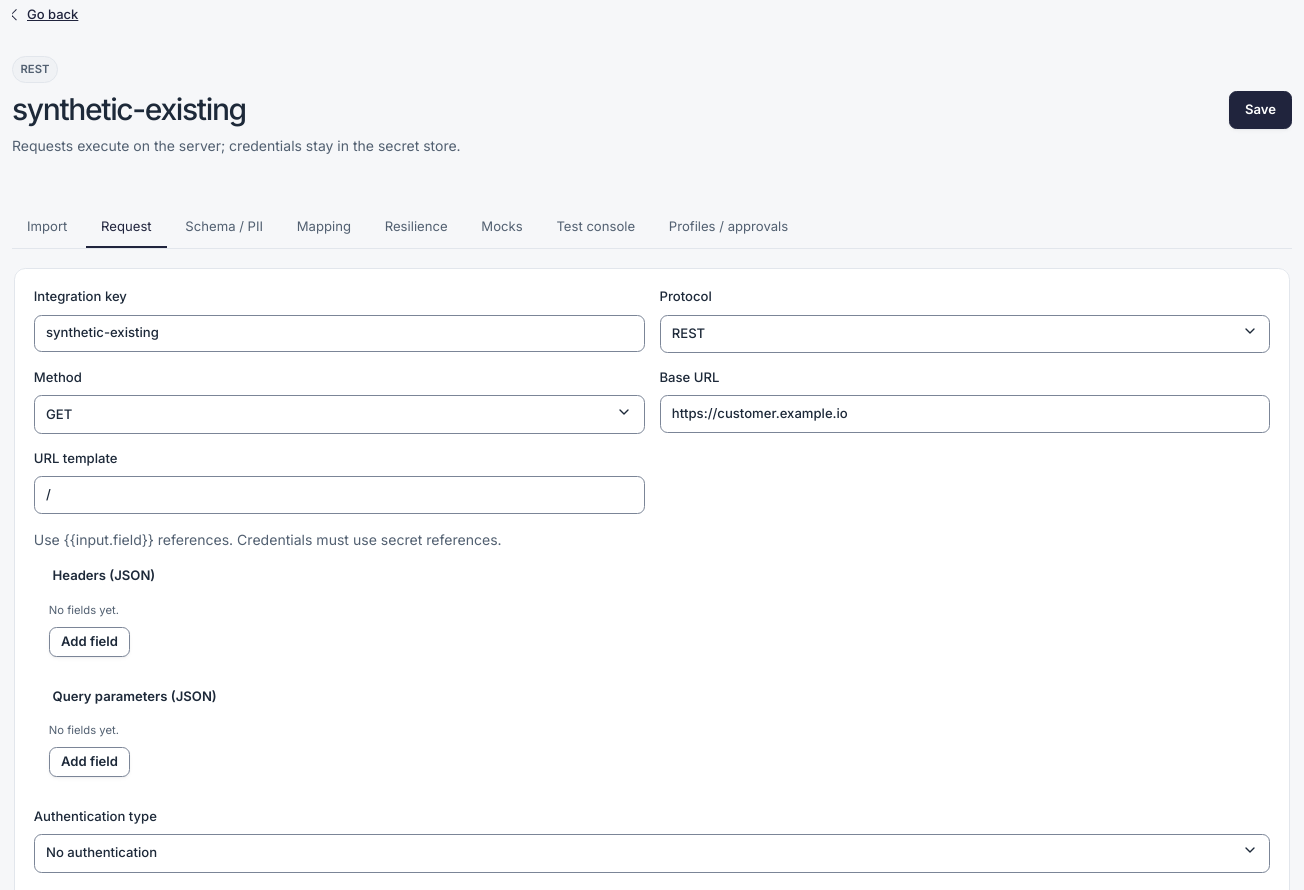
it: reports save status 409 without losing entered changes
Expected: the heading "synthetic-existing" is shown, [12,91,246,127]
Replace the text in the field labelled "URL template" with "/keep-this-draft" at x=339, y=495, box [34,476,645,514]
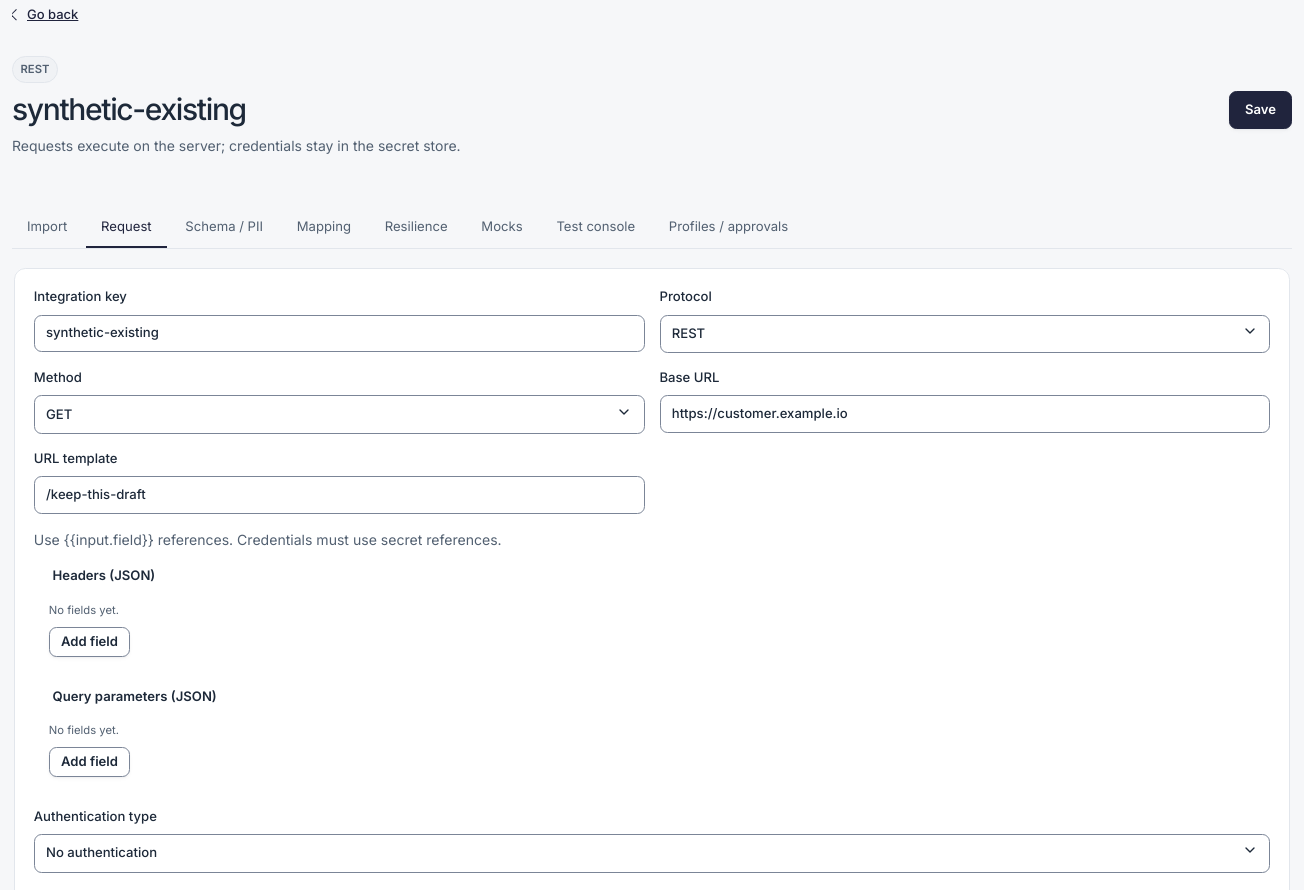
Click the button "Save".
click(1260, 110)  # box [1229,91,1292,129]
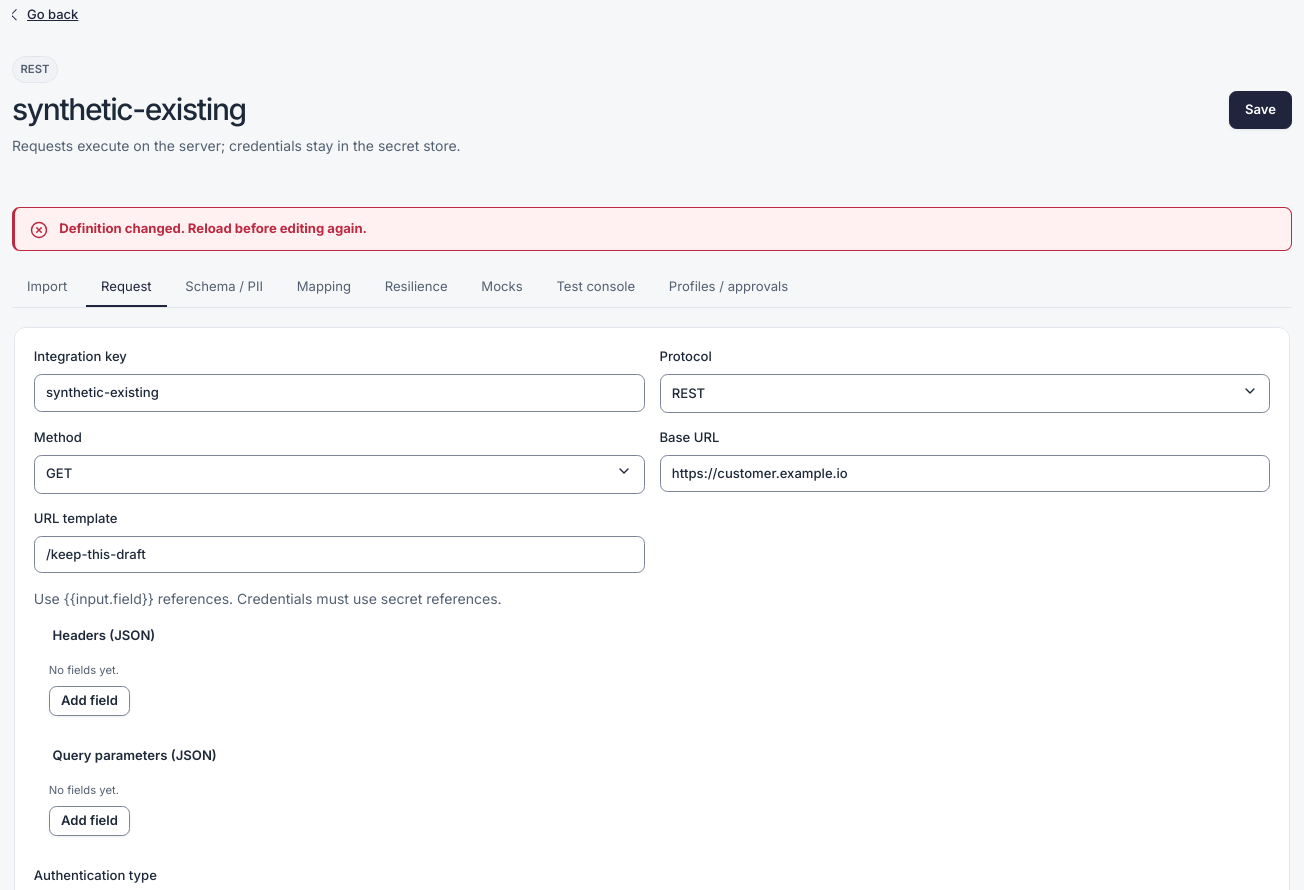
Now the message "Definition changed. Reload before editing again." is shown, box [12,207,1292,251]
